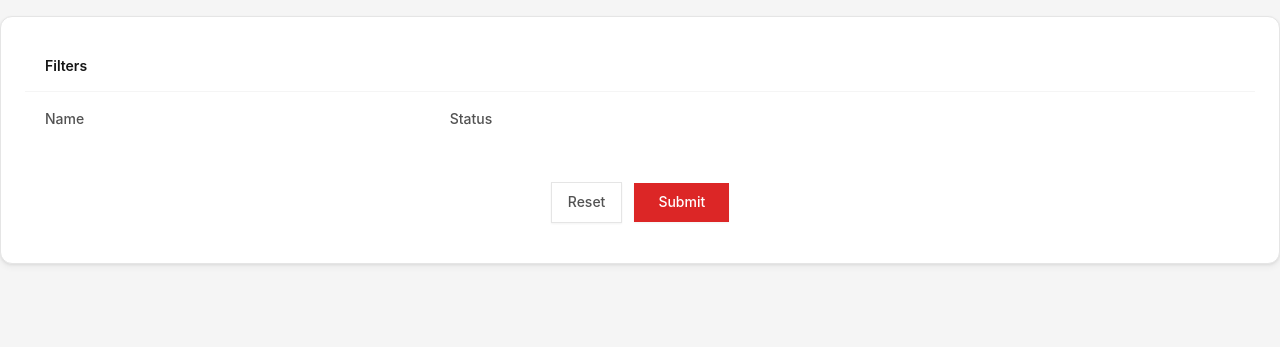
it: V1FilterSection › groups validation errors for multiple fields with same message
This screenshot has width=1280, height=347.
Click the button "Submit": point(682, 203) [634,183,729,222]
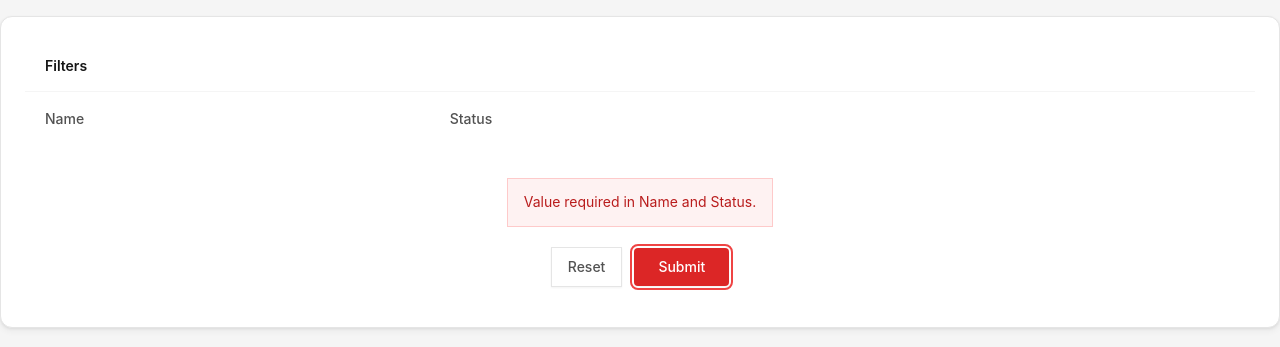
Result: the text "Value required in Name and Status." is shown at [507,178,773,227]
